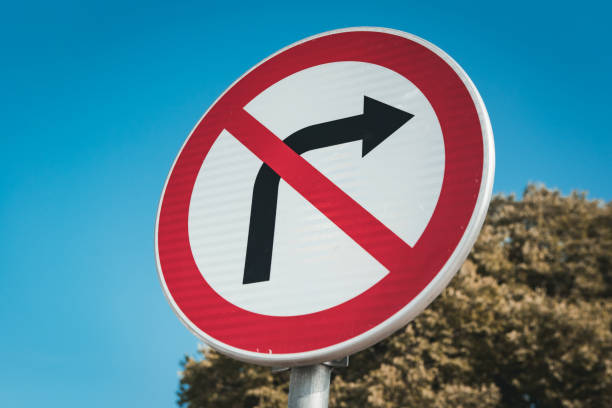saga_donulmez: (155, 23, 497, 369)
